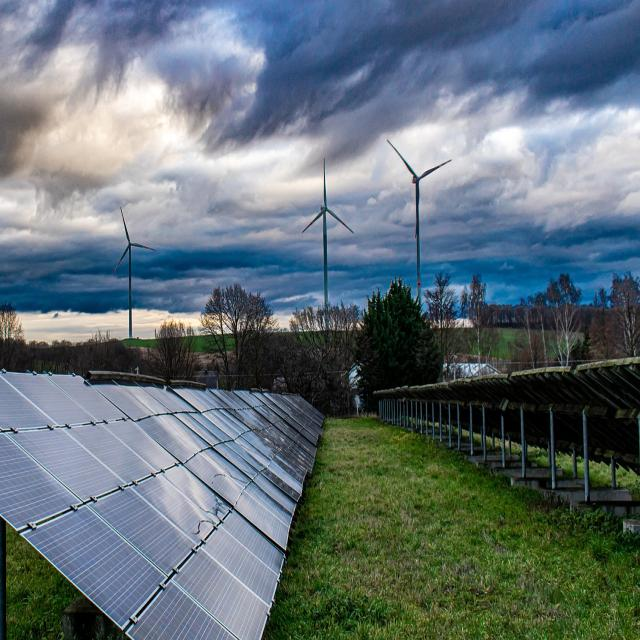clean-solar-panel: (0, 373, 324, 638)
